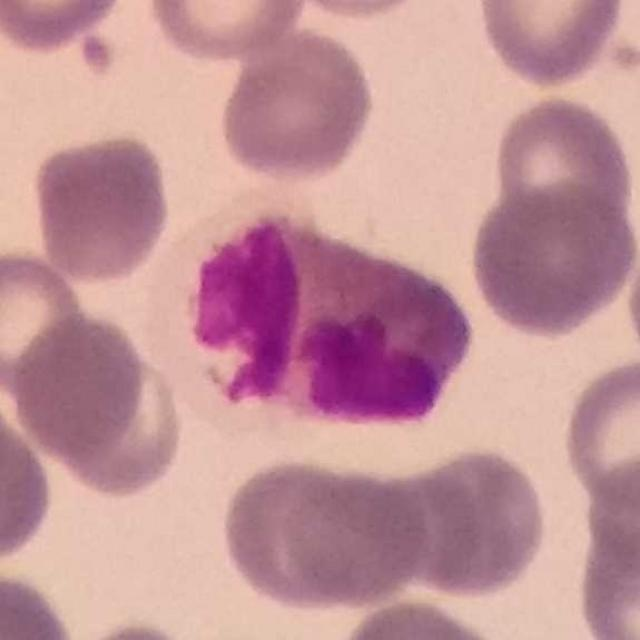Eosinophil: (181, 216, 477, 424)
RBC: (215, 453, 427, 614), (465, 179, 639, 342), (213, 22, 380, 185), (384, 442, 553, 603), (5, 305, 154, 480), (28, 129, 175, 286), (42, 345, 188, 503), (487, 90, 638, 237), (472, 0, 630, 91), (0, 244, 91, 399), (557, 352, 640, 514), (143, 0, 310, 65), (0, 392, 57, 571), (572, 505, 640, 640), (577, 453, 640, 591), (331, 593, 514, 640), (0, 0, 129, 55), (0, 565, 80, 640), (276, 0, 438, 22), (60, 617, 209, 640), (622, 214, 640, 380)
